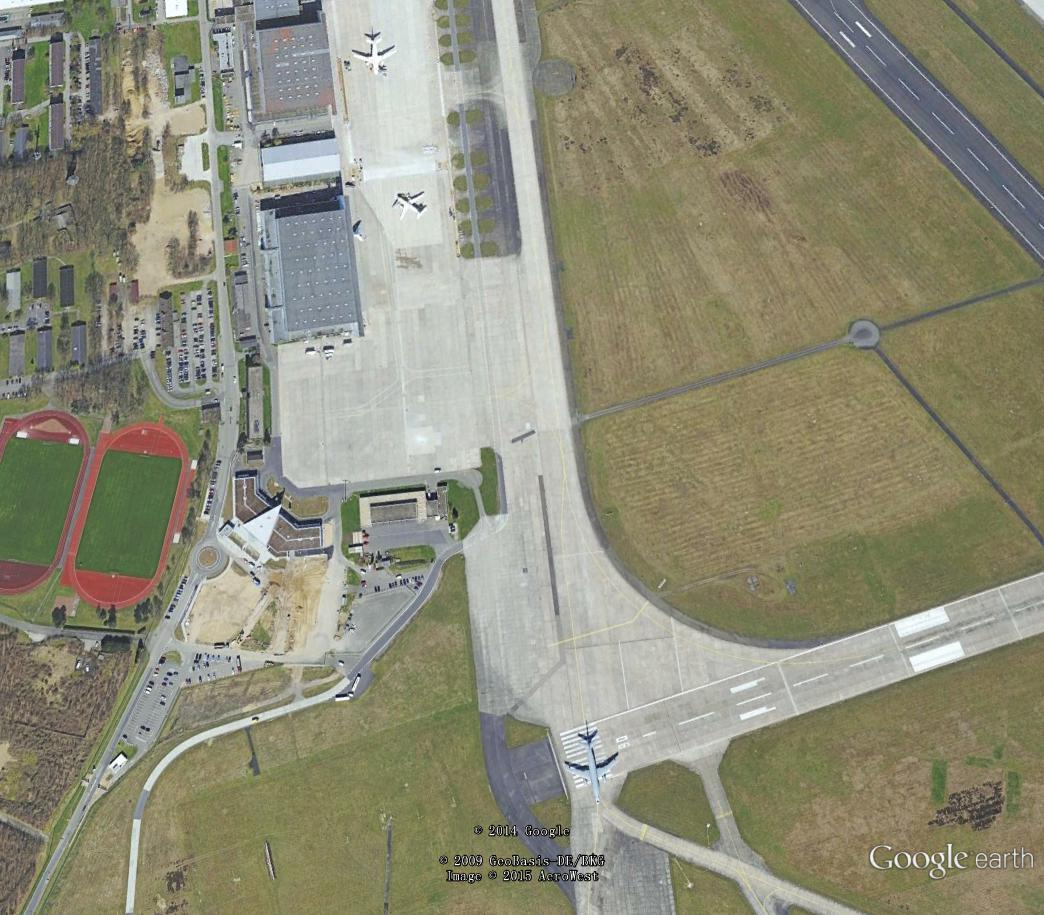aircraft: (562, 729, 627, 811), (346, 30, 399, 81), (390, 189, 432, 223)
